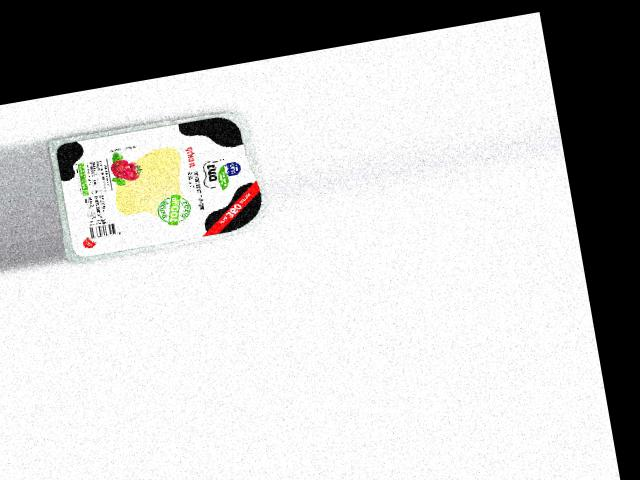cheese: (46, 105, 274, 265)
